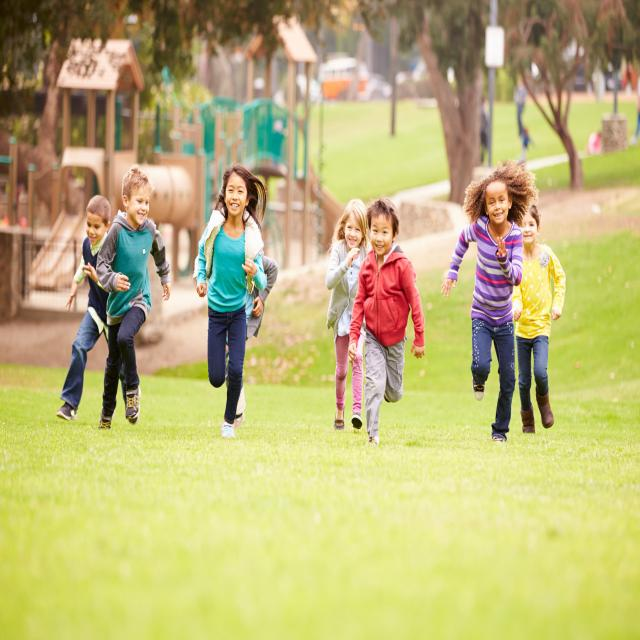child: (439, 171, 524, 442), (195, 165, 267, 442), (346, 196, 425, 442), (98, 168, 172, 428), (55, 194, 122, 422), (511, 200, 566, 437), (326, 195, 370, 431)
